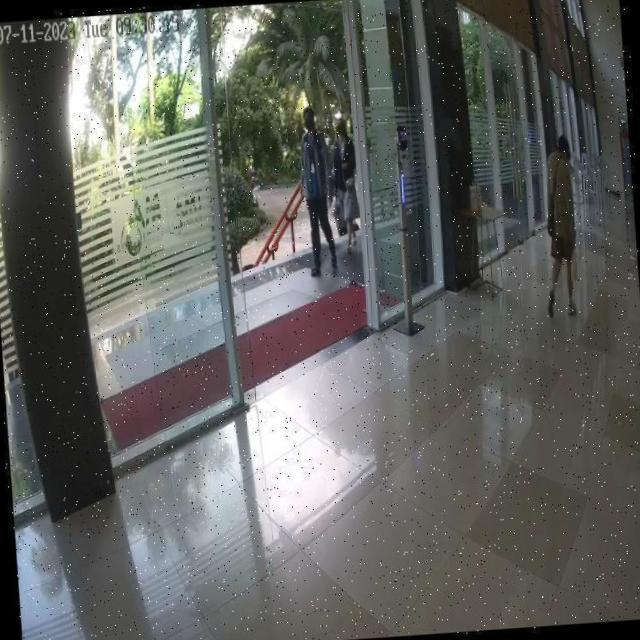person: (540, 136, 581, 319), (296, 106, 340, 276), (330, 116, 360, 250)
